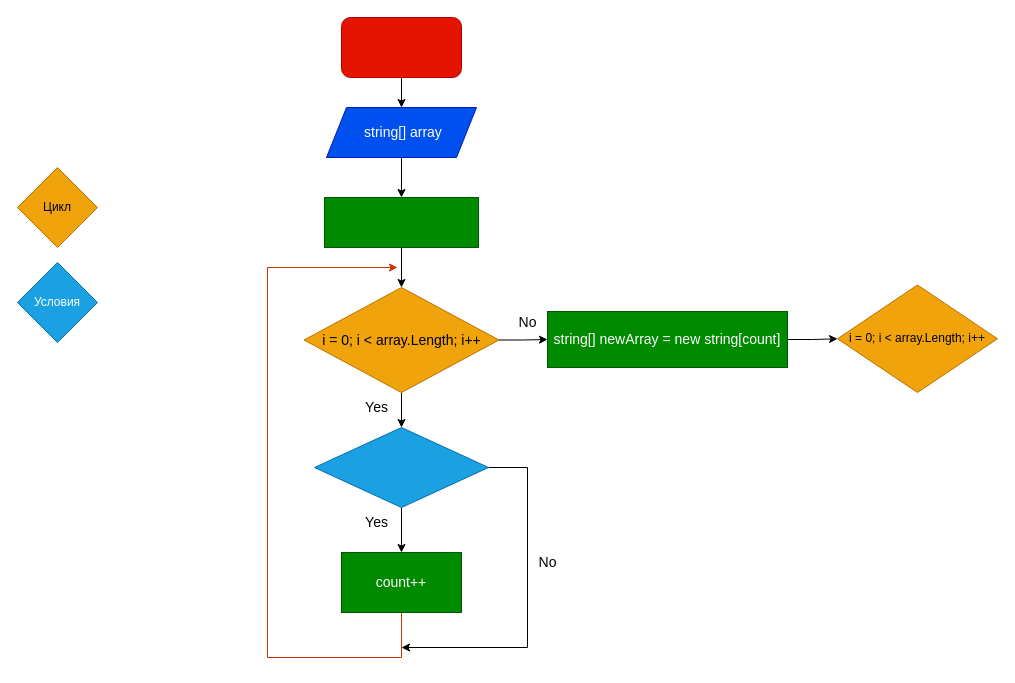
This 1015x683 diagram has some shape labels left out. The centre of each missing label's shape, as x and y in pixels:
array.Length <= 3: pixel 401 467
int count = 0: pixel 401 222
START: pixel 401 47
